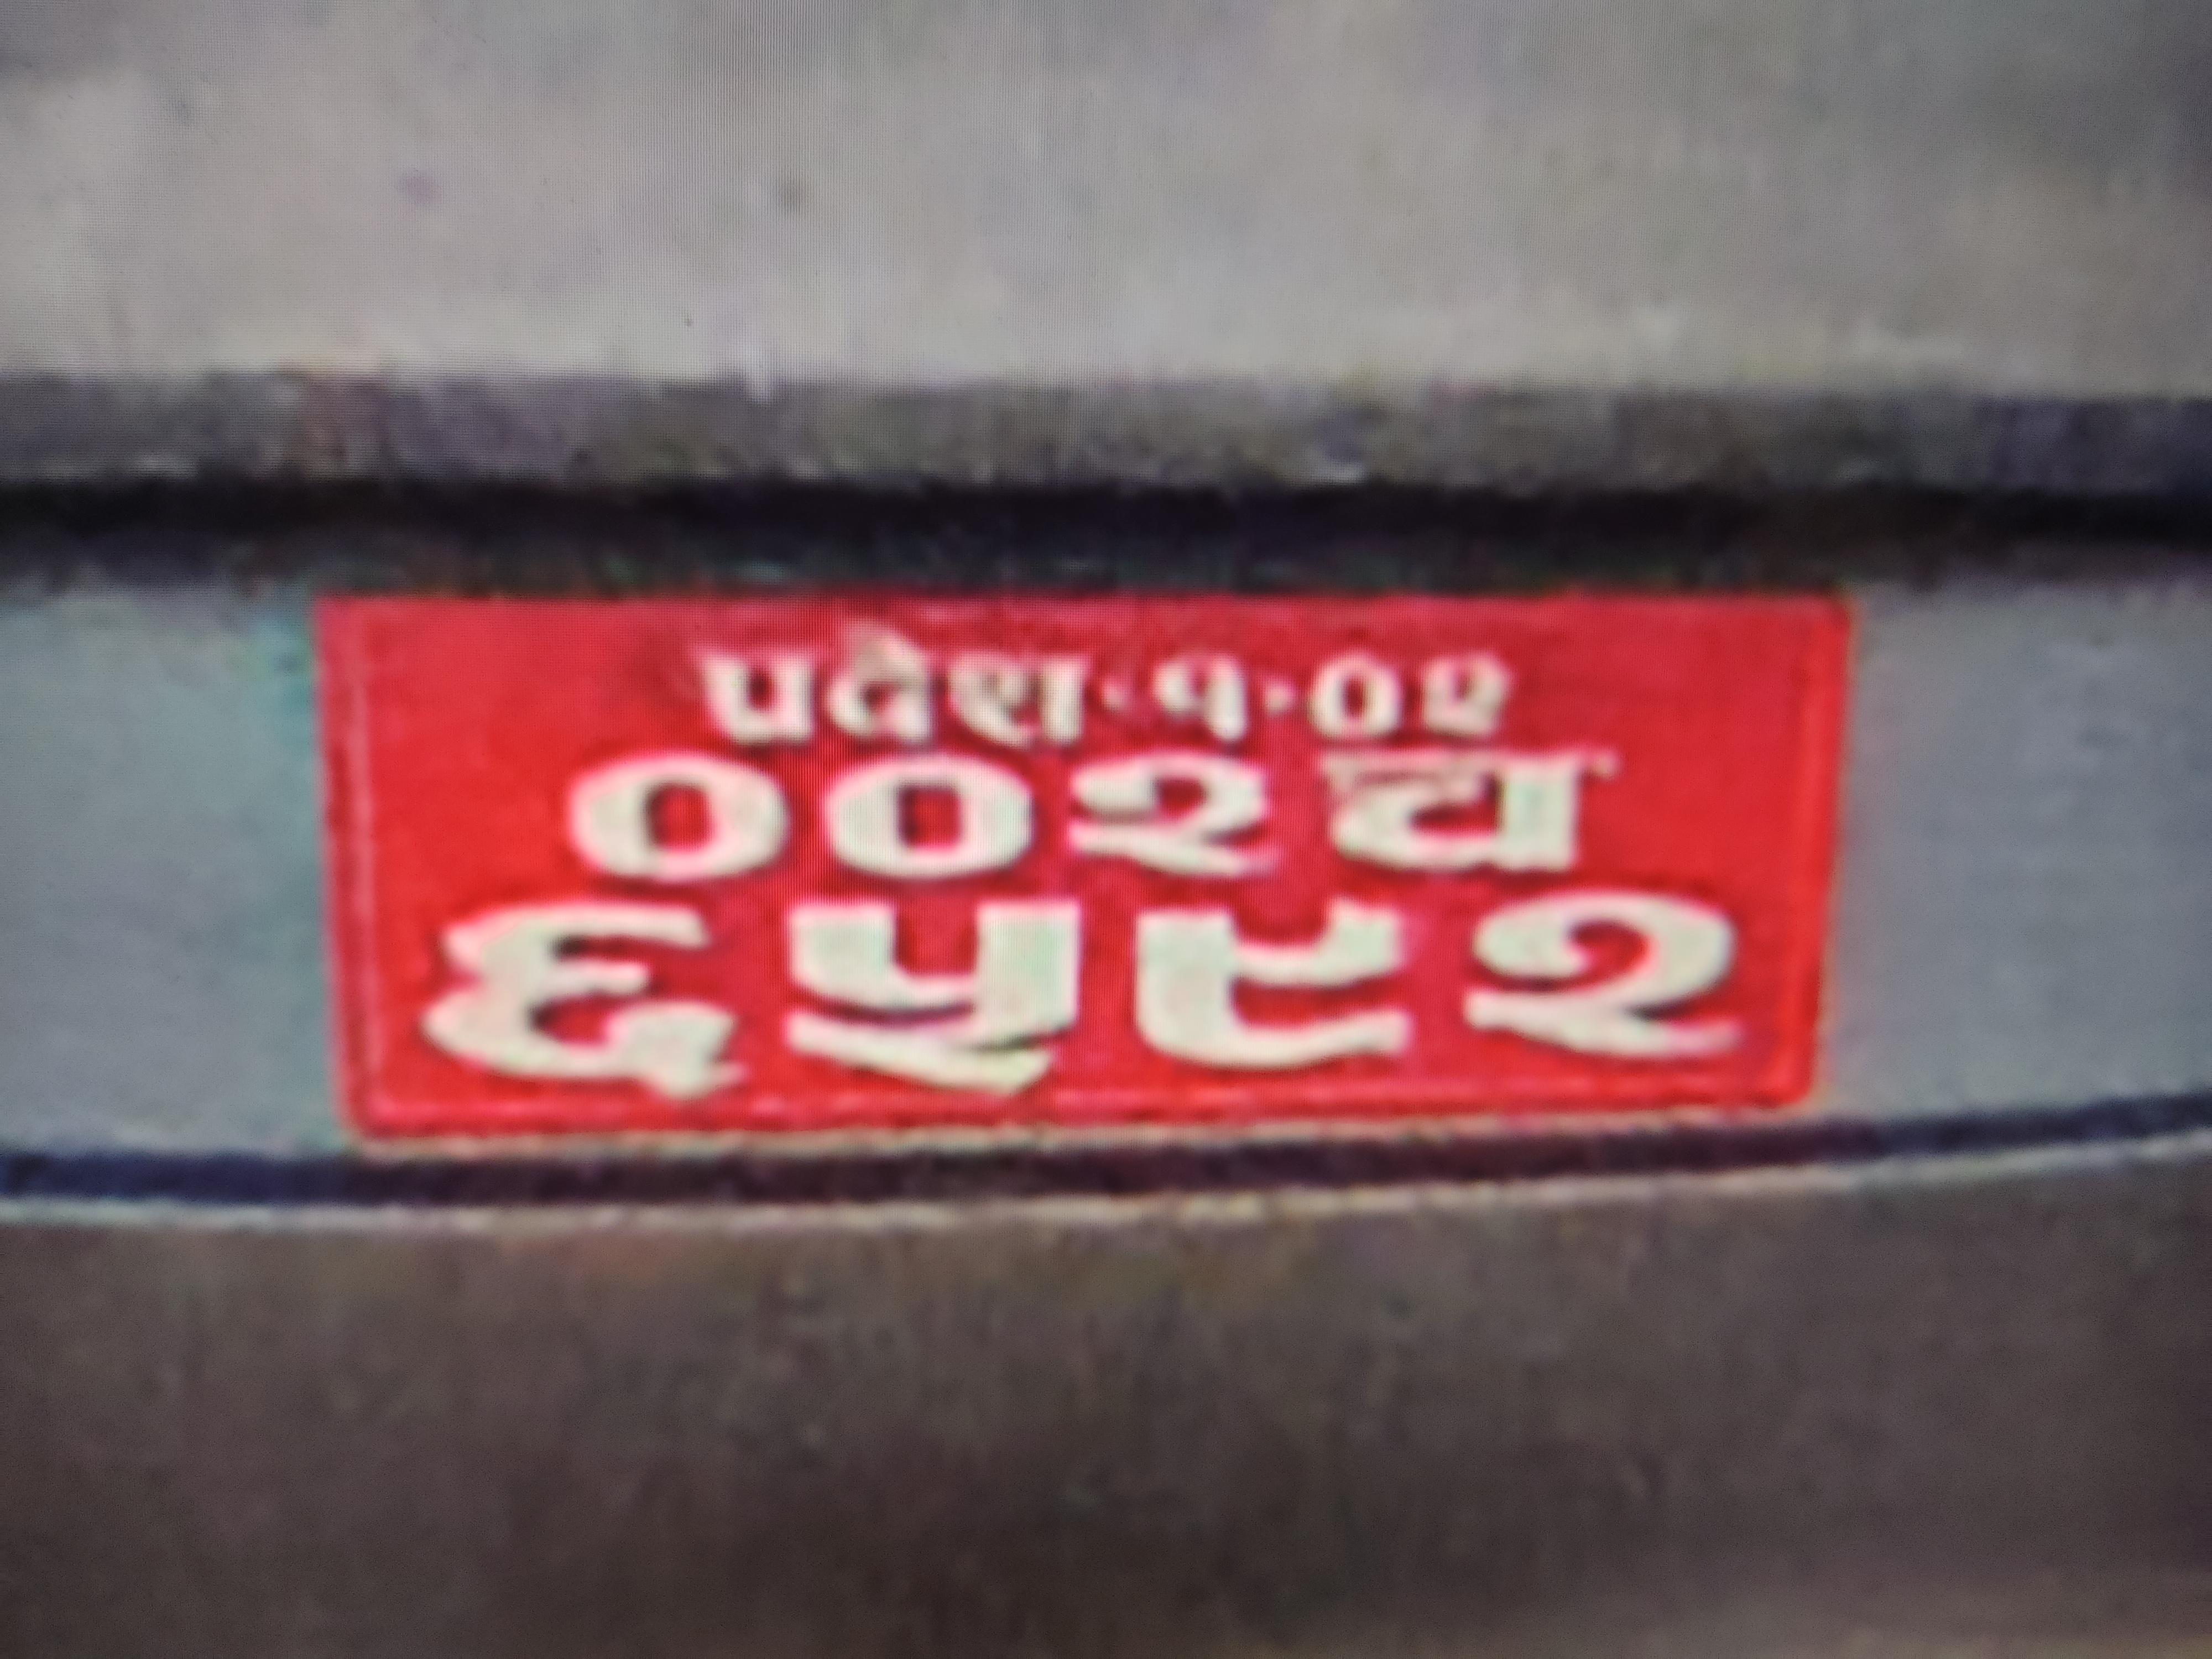0: (534, 747, 796, 894), (813, 747, 1054, 885), (1306, 631, 1412, 753)
1: (1142, 628, 1269, 757)
2: (1430, 877, 1792, 1105), (1060, 744, 1305, 895), (1410, 637, 1524, 771)
5: (778, 877, 1117, 1135)
6: (410, 874, 782, 1123)
9: (1120, 888, 1446, 1113)
pradesh: (684, 603, 1106, 775)
